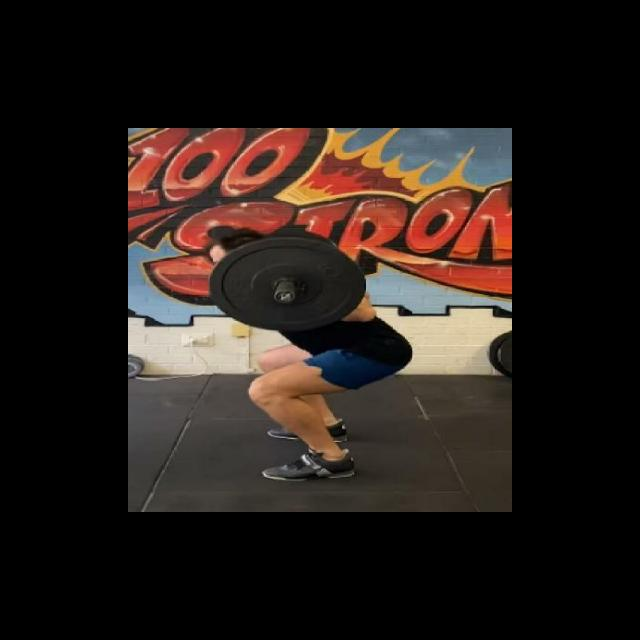barbell: (208, 236, 368, 335)
